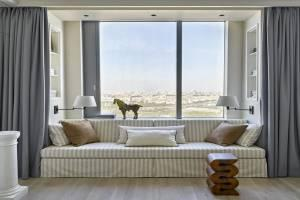window: (81, 21, 224, 118)
